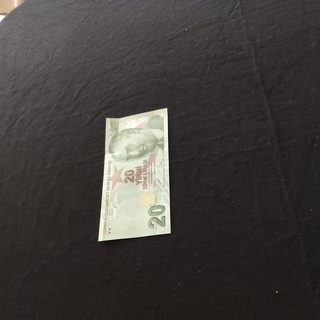20TLFront: (97, 106, 171, 242)
